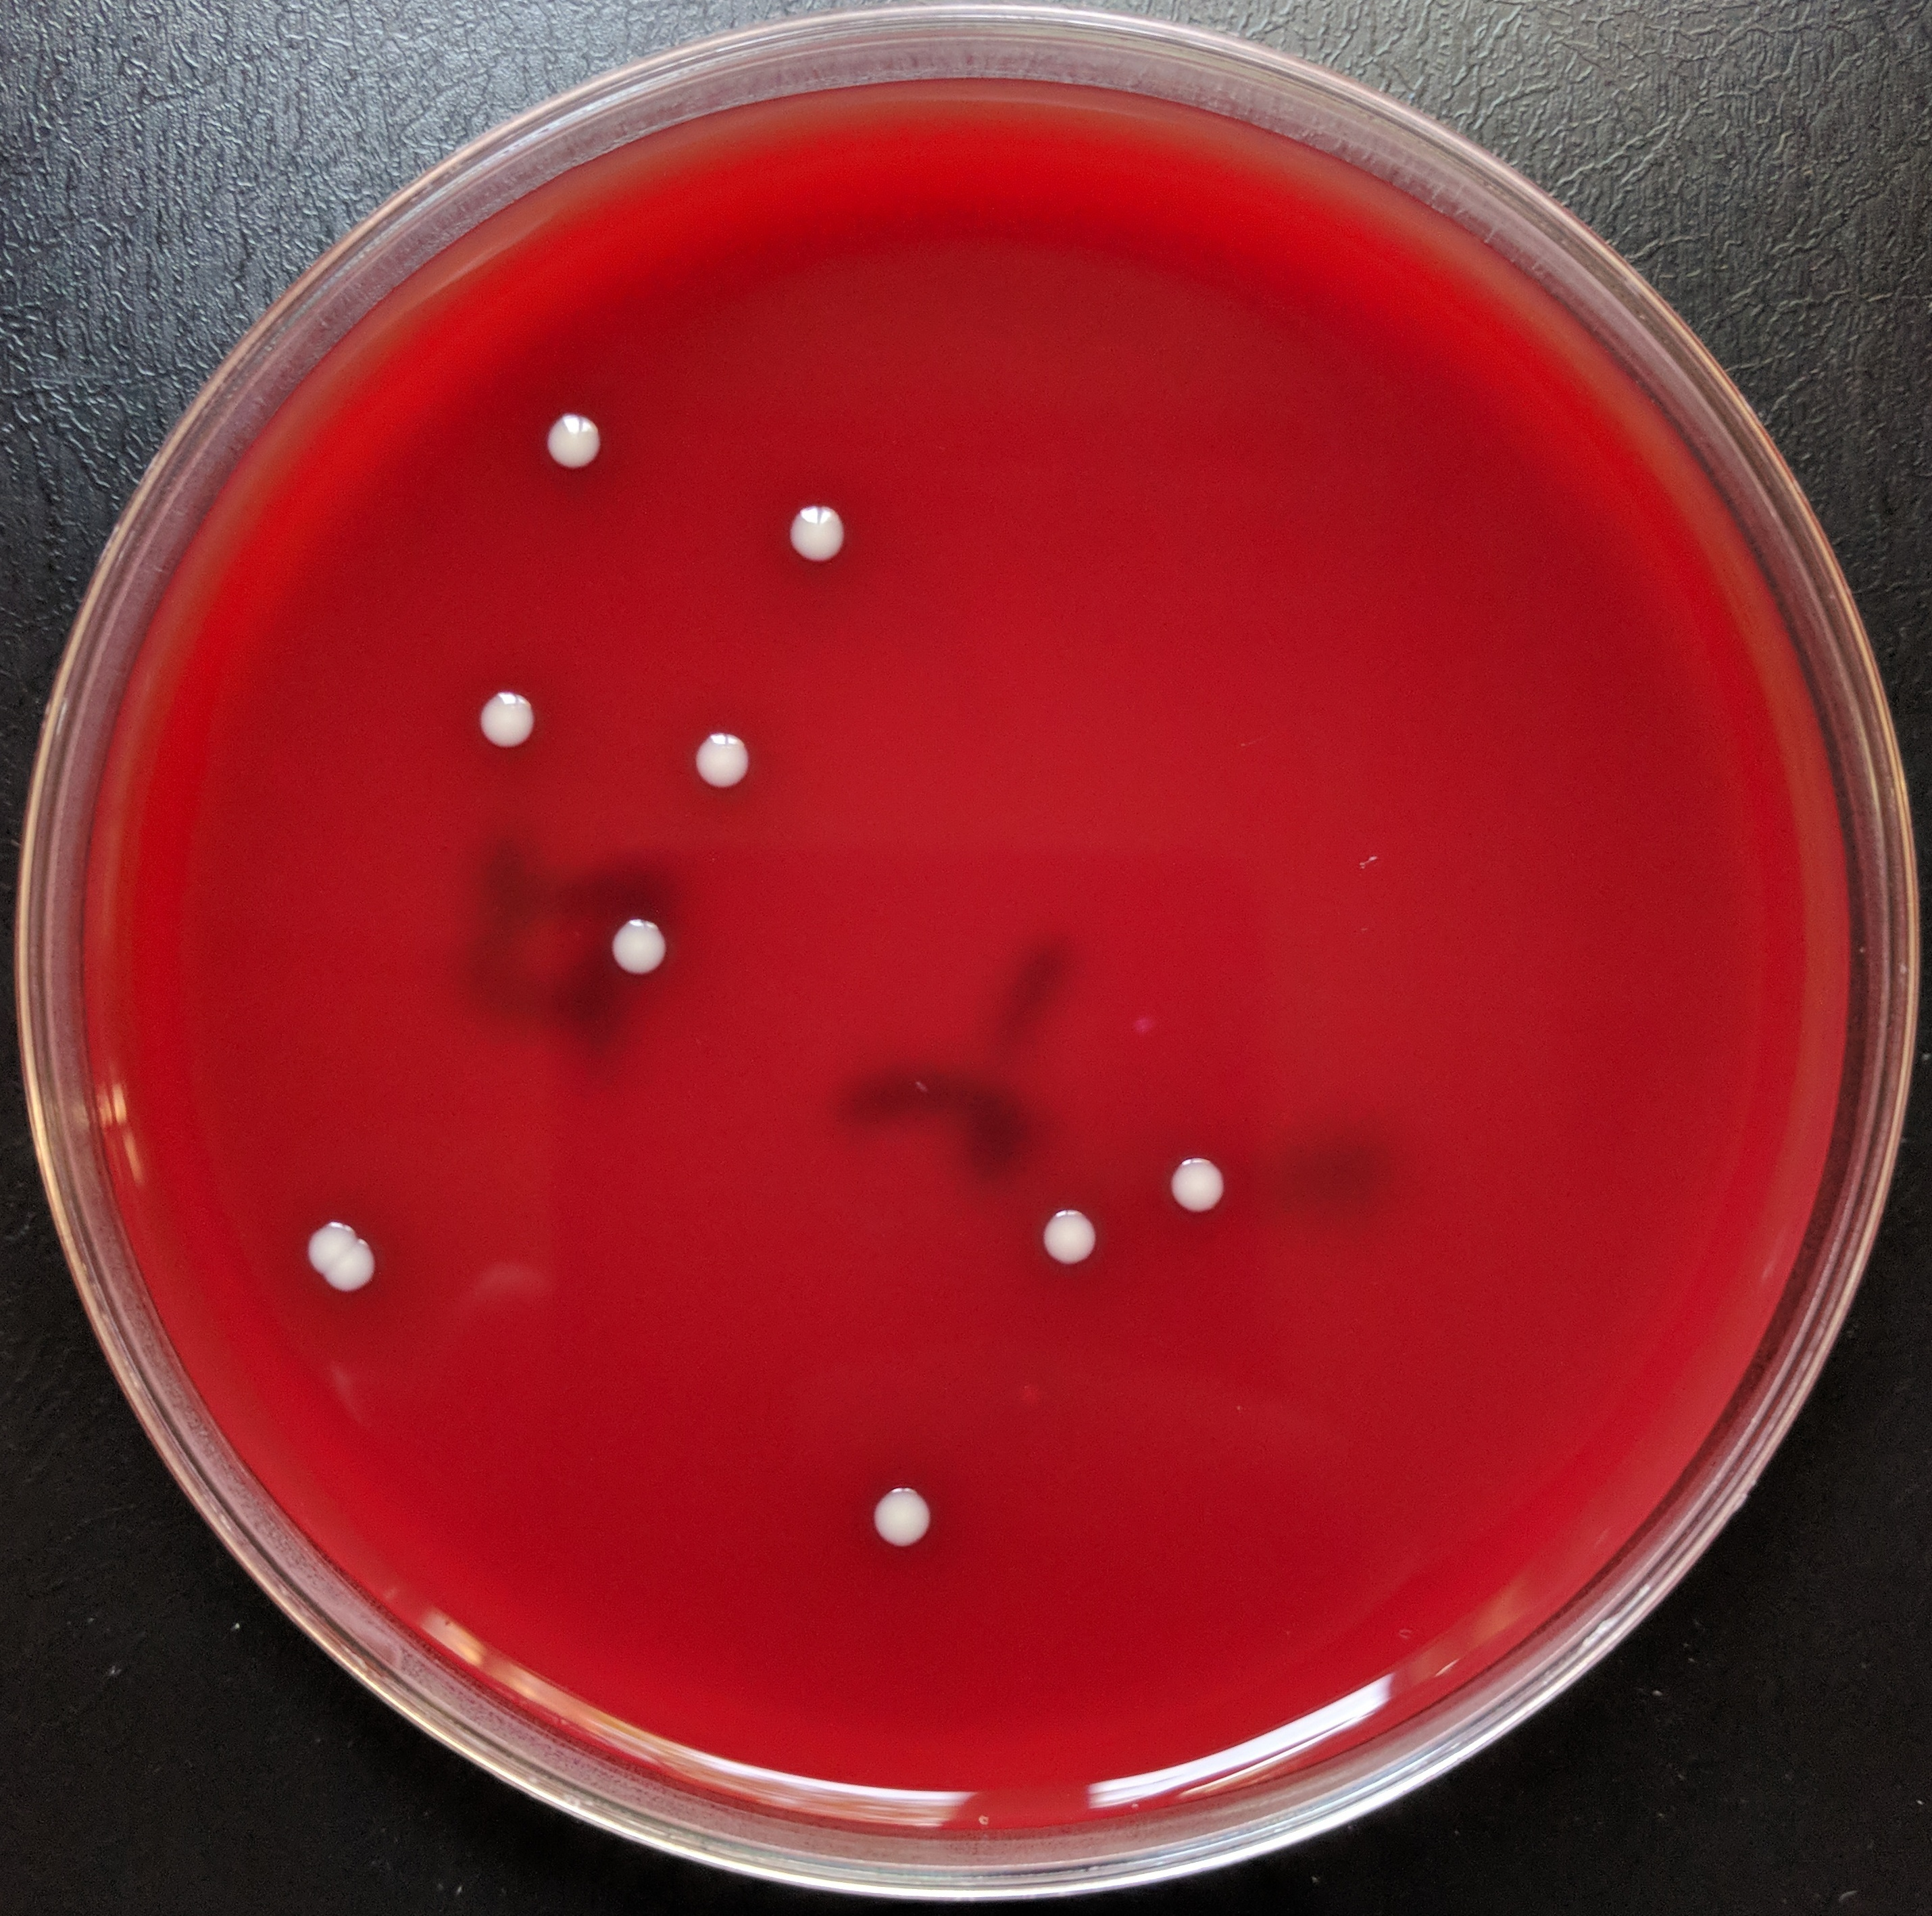sp01: (555, 874, 698, 1009), (667, 691, 770, 826), (858, 1453, 962, 1565), (769, 483, 881, 586), (456, 668, 560, 769), (1139, 1149, 1251, 1235), (1009, 1186, 1100, 1284), (537, 402, 626, 484), (332, 1242, 409, 1311), (277, 1193, 349, 1262)
